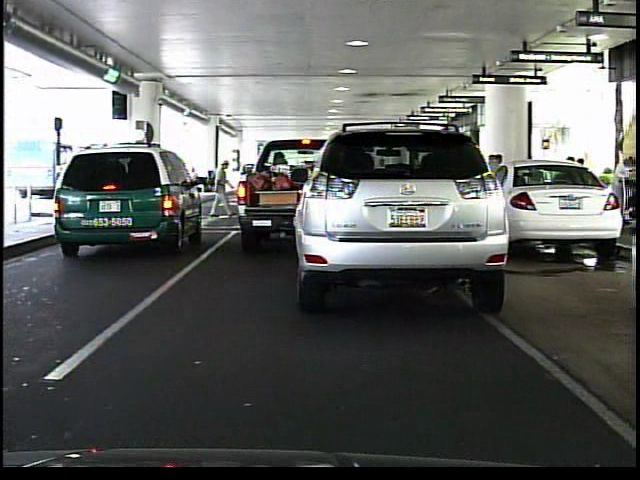person: (208, 156, 237, 223)
